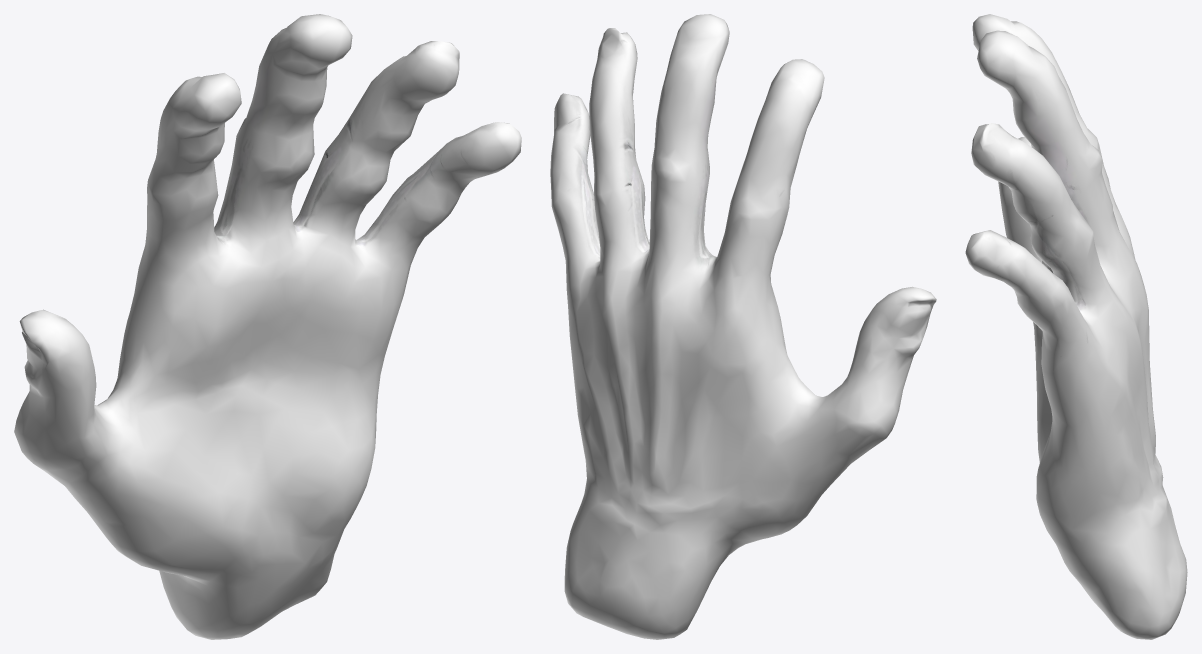
3 views of the same model, side by side, from view 1: azimuth 30°, elevation 25°; view 2: azimuth 150°, elevation 25°; view 3: azimuth 270°, elevation 25° (orthographic). The views are drawn at different scales.
Parts seen in each view (by area): view 1: Mesh1; view 2: Mesh1; view 3: Mesh1.
Boxes of the visible parts, x1,y1,x2,y2 form: Mesh1: [14, 14, 521, 639]; Mesh1: [550, 14, 936, 639]; Mesh1: [965, 14, 1187, 639].
Bounding box in the file's own units: 147 × 199 × 67.94.
Materials: 1 (1 with a texture image).
